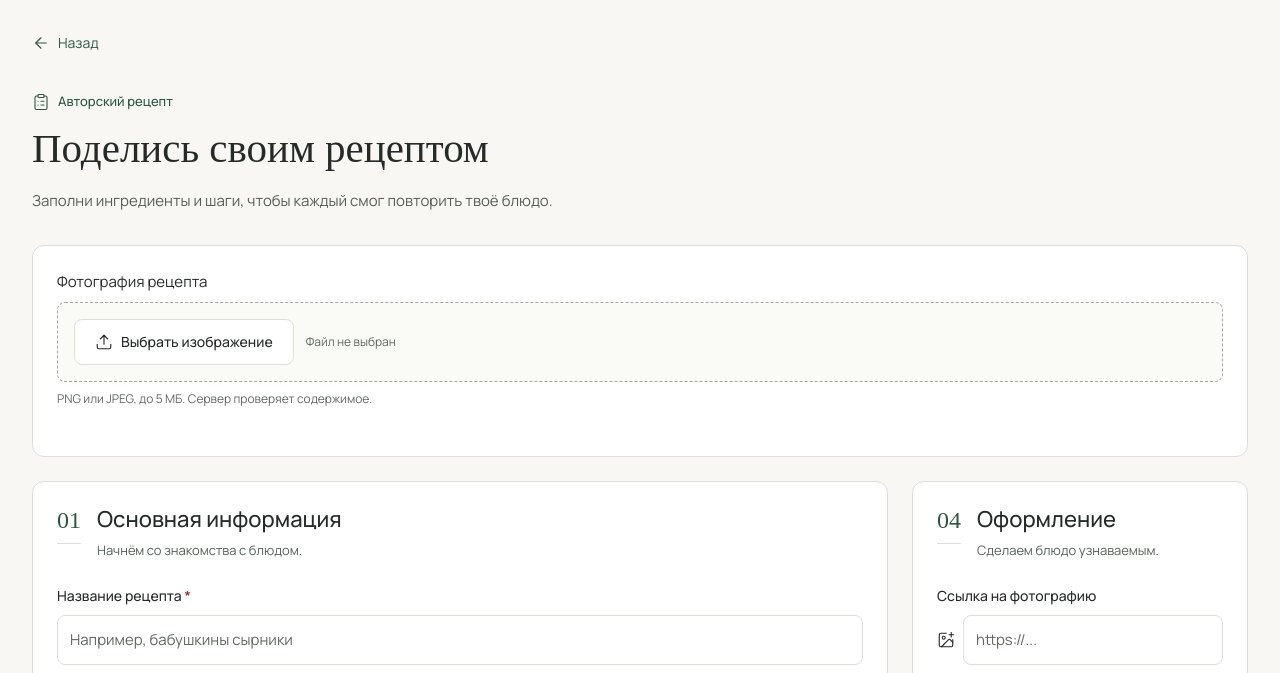
Test: показывает только один диалог, если нажать Back во время удаления черновика
Later steps or results of the test are not shown.
Type "Черновик с подтверждением" into the field labelled "Название рецепта *" at (460, 640), box [57,615,863,665]
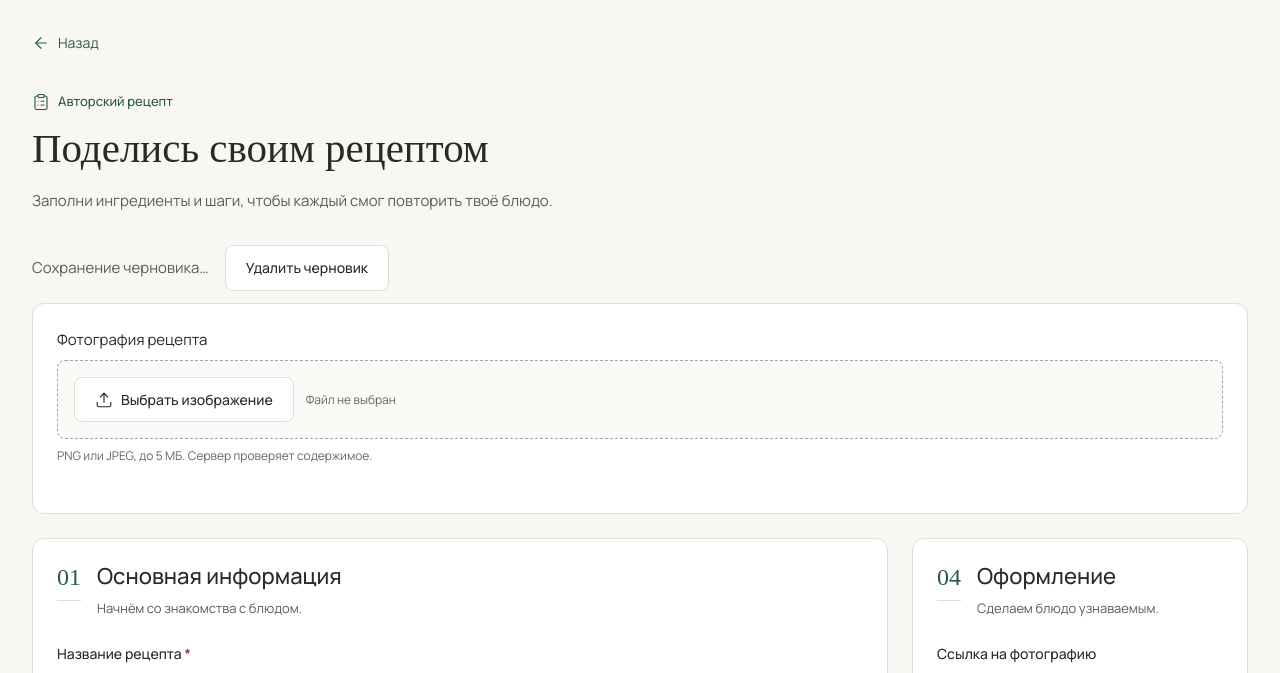
Click the button "Удалить черновик" at (307, 268), box [225,245,389,291]
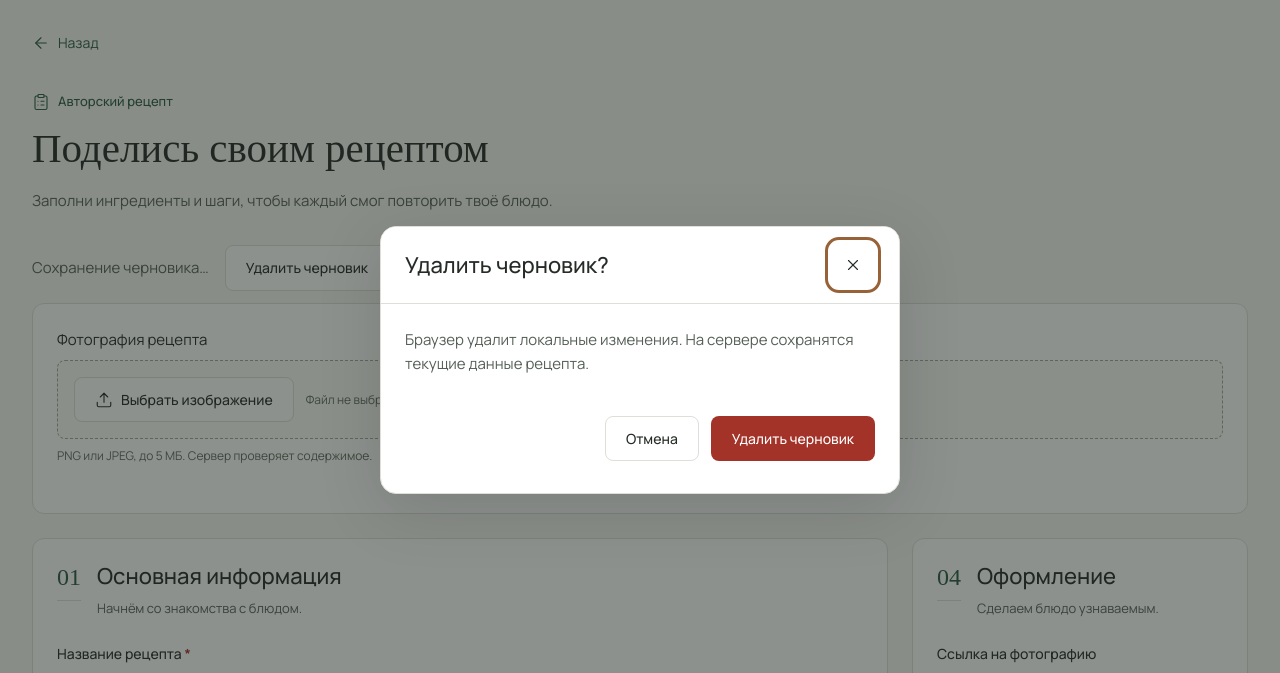
Result: the dialog "Удалить черновик?" is shown at [380,226,900,494]
